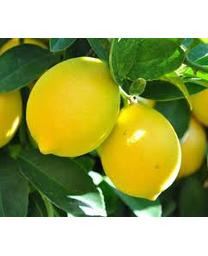lemon: (26, 57, 122, 157), (102, 104, 182, 201)
